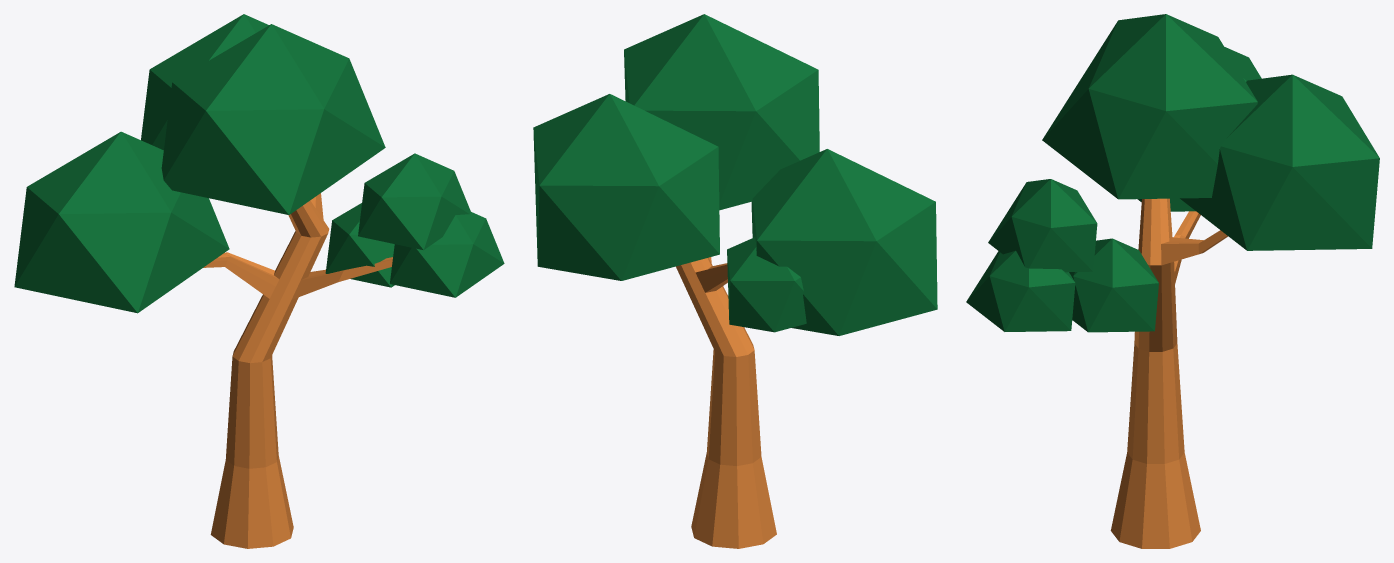
The model's file is Tree.fbx.
The picture shows the model from 3 angles, left to right: view 1: azimuth 30°, elevation 25°; view 2: azimuth 150°, elevation 25°; view 3: azimuth 270°, elevation 25°; orthographic projection. The views are drawn at different scales.
Visible parts, largest first — view 1: Cylinder; view 2: Cylinder; view 3: Cylinder.
Part boxes in pixels (x1,y1,x2,y2): Cylinder: (14, 14, 504, 548); Cylinder: (533, 14, 937, 548); Cylinder: (966, 14, 1379, 548).
Bounding box in the file's own units: 1701 × 2030 × 1438.
